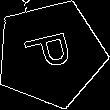P_E: (21, 29, 80, 78)
